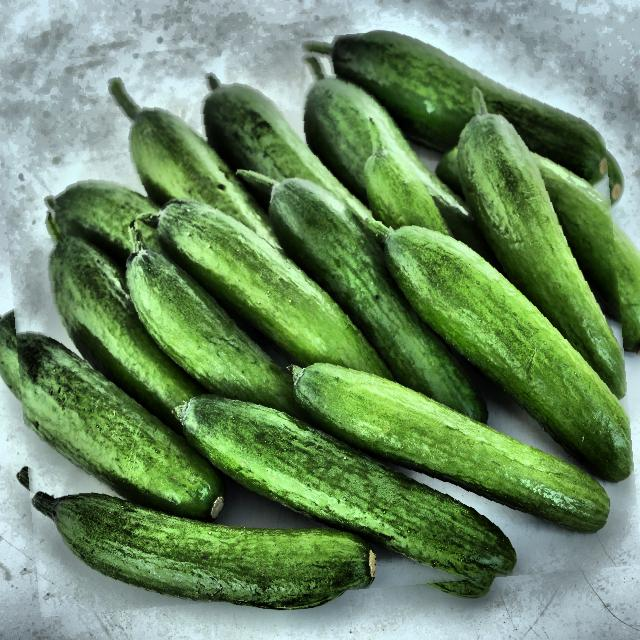cucumber: (4, 26, 631, 604)
